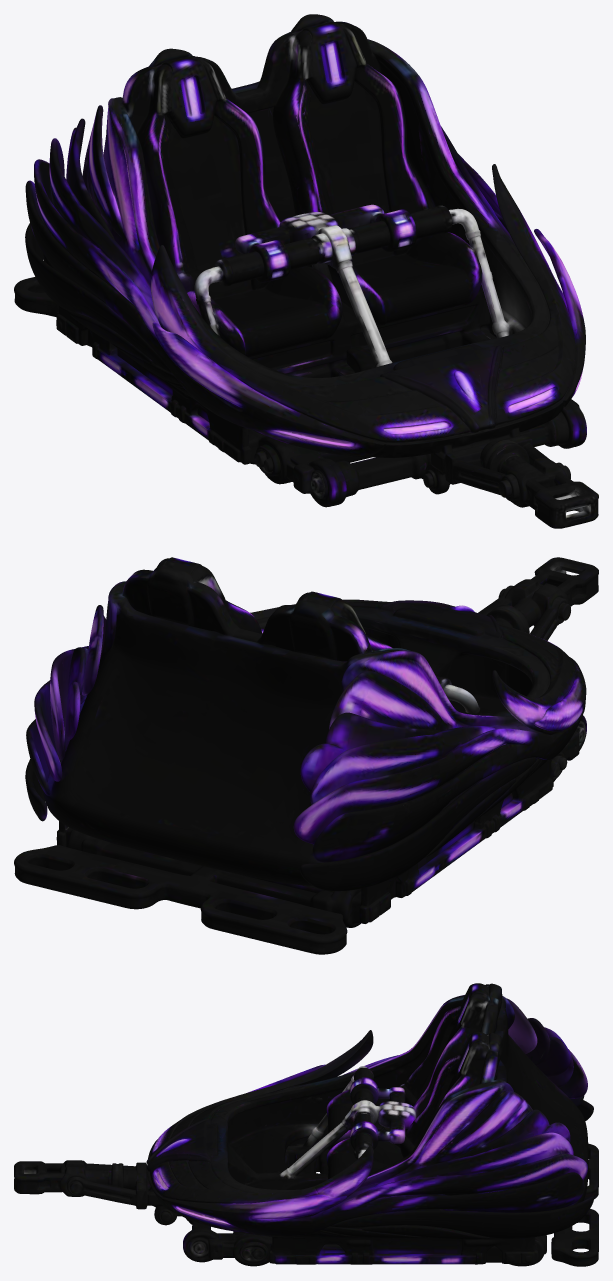
Rendered from nostrich_roller_cart.glb.
3 views of the same model, one above another, from view 1: azimuth 30°, elevation 25°; view 2: azimuth 150°, elevation 25°; view 3: azimuth 270°, elevation 25° (orthographic). The views are drawn at different scales.
Parts seen in each view (by area): view 1: material; view 2: material; view 3: material.
Part boxes in pixels (<box>): material: <box>14,14,598,528</box>; material: <box>14,557,598,954</box>; material: <box>14,983,598,1266</box>.
Size of the model in its own units: 0.5797 by 0.412 by 1.06.
Materials: 1 (1 with a texture image).
